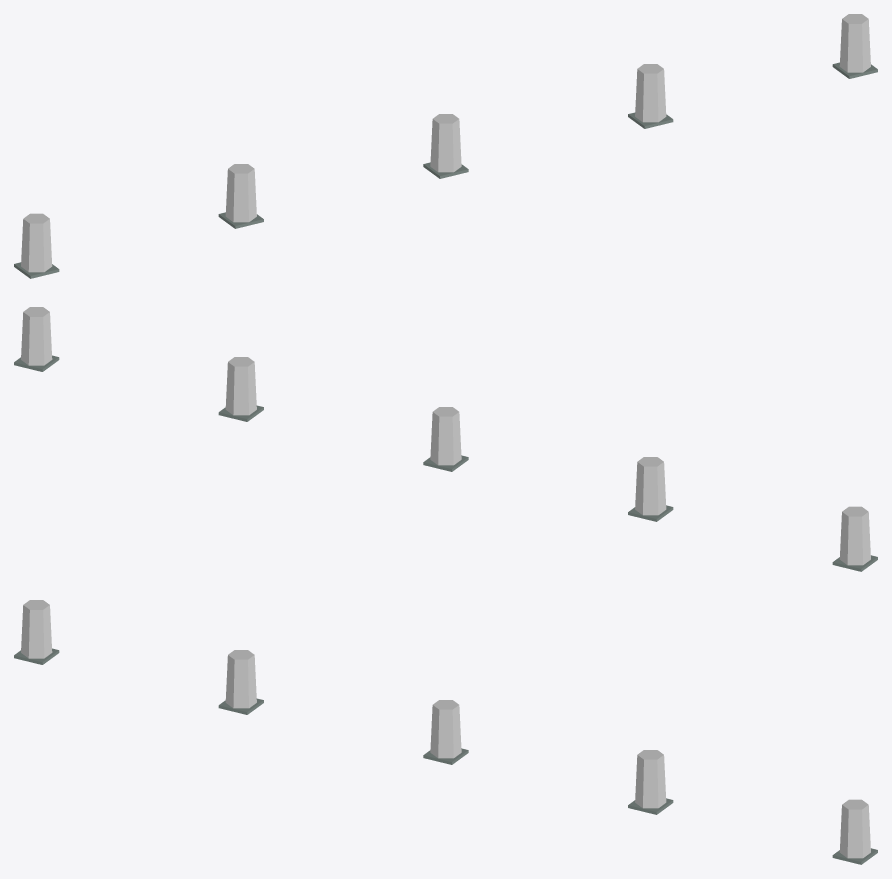
The model's file is SM_Balizas_v4_Conos_LOD1.fbx.
3 views of the same model, one above another, from view 1: azimuth 30°, elevation 25°; view 2: azimuth 150°, elevation 25°; view 3: azimuth 330°, elevation 25° (orthographic).
Parts seen in each view (by area): view 1: SM_ambiente_aerodromo_v9_LOD1; view 2: SM_ambiente_aerodromo_v9_LOD1; view 3: SM_ambiente_aerodromo_v9_LOD1.
Part boxes in pixels (x1,y1,x2,y2): SM_ambiente_aerodromo_v9_LOD1: (14,14,877,278); SM_ambiente_aerodromo_v9_LOD1: (14,307,877,571); SM_ambiente_aerodromo_v9_LOD1: (14,600,877,864).
Size of the model in its own units: 12.42 by 0.71 by 0.42.
